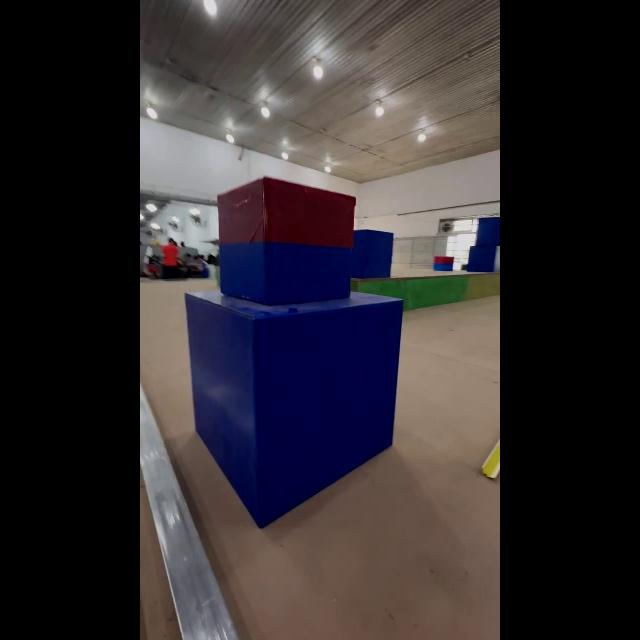sky_block: (206, 176, 364, 306)
